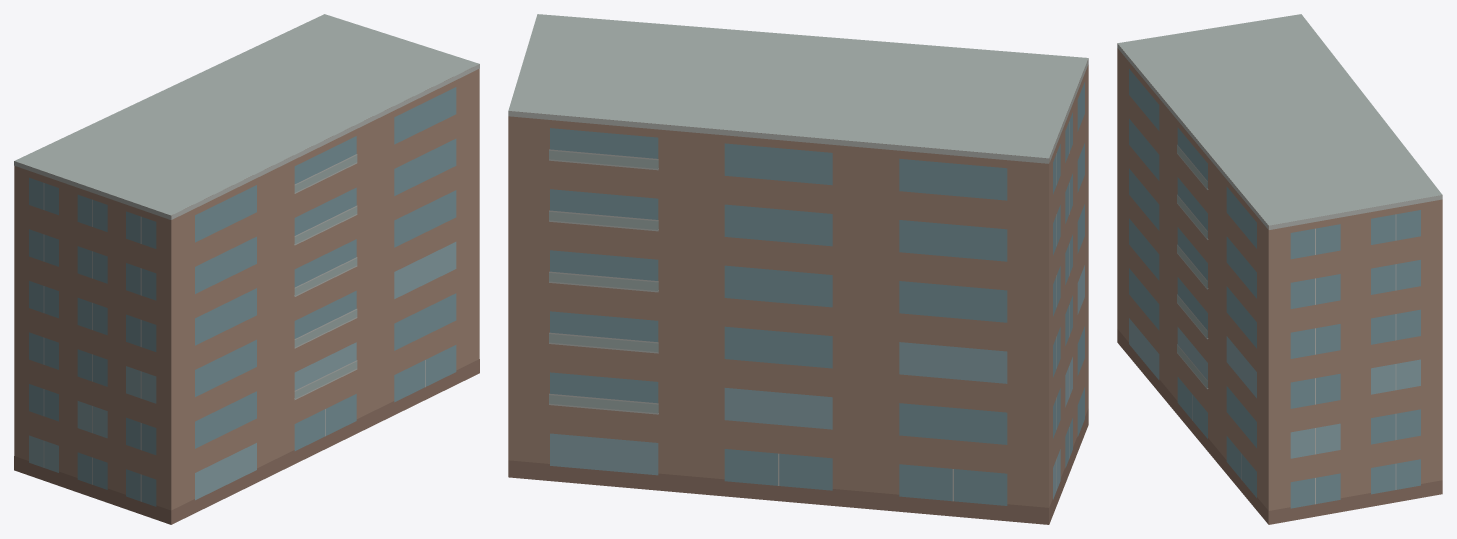
File: survey-upis-32524085.glb
3 renders of one model, left to right at view 1: azimuth 30°, elevation 25°; view 2: azimuth 150°, elevation 25°; view 3: azimuth 270°, elevation 25°, orthographic. The views are drawn at different scales.
Parts seen in each view (by area): view 1: survey-upis-32524085.tmp; view 2: survey-upis-32524085.tmp; view 3: survey-upis-32524085.tmp.
Part boxes in pixels (<box>): survey-upis-32524085.tmp: <box>14,14,479,524</box>; survey-upis-32524085.tmp: <box>508,14,1088,524</box>; survey-upis-32524085.tmp: <box>1117,14,1442,524</box>.
Bounding box in the file's own units: 24.83 × 16.35 × 16.12.
